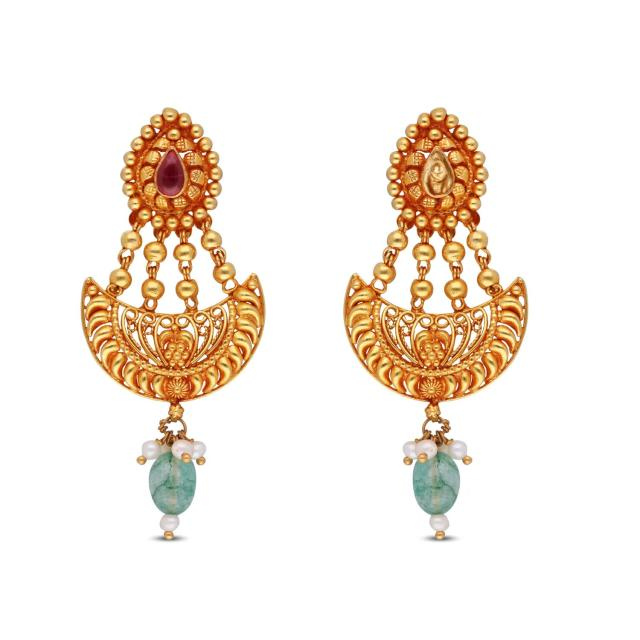missing gem: (425, 150, 453, 195)
